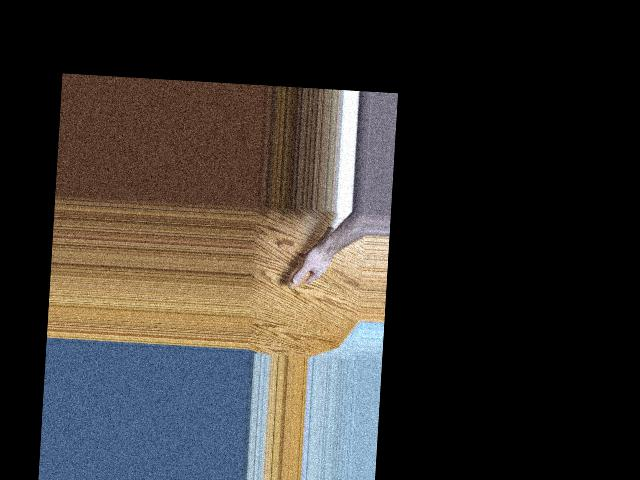sweet_potato: (287, 222, 336, 292)
